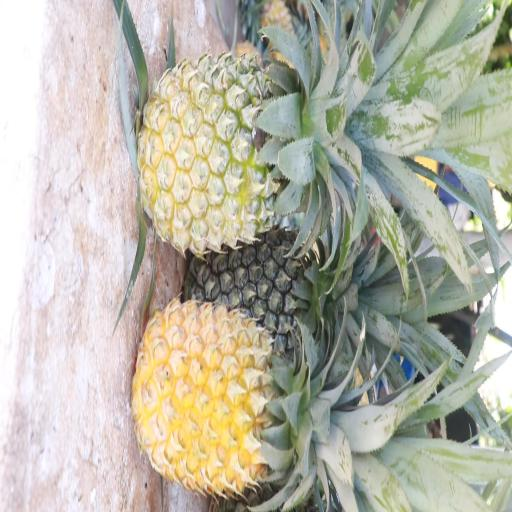------------------------------: (143, 51, 332, 254)
Pineapple - v8 v1: (138, 305, 323, 492)
